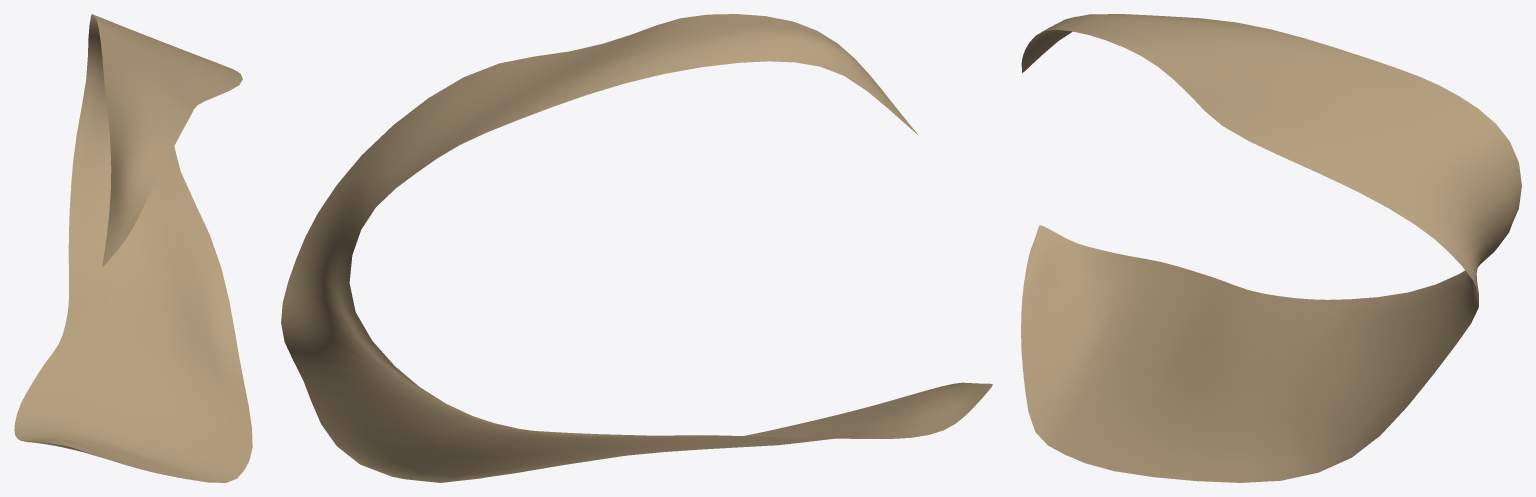
3 views of the same model, side by side, from view 1: azimuth 30°, elevation 25°; view 2: azimuth 150°, elevation 25°; view 3: azimuth 270°, elevation 25° (orthographic). The views are drawn at different scales.
Parts seen in each view (by area): view 1: 右侧关节囊系带; view 2: 右侧关节囊系带; view 3: 右侧关节囊系带.
Boxes of the visible parts, x1,y1,x2,y2 form: 右侧关节囊系带: (14, 14, 252, 482); 右侧关节囊系带: (281, 14, 992, 482); 右侧关节囊系带: (1021, 14, 1521, 482).
Size of the model in its own units: 0.0547 by 0.0541 by 0.0613.
